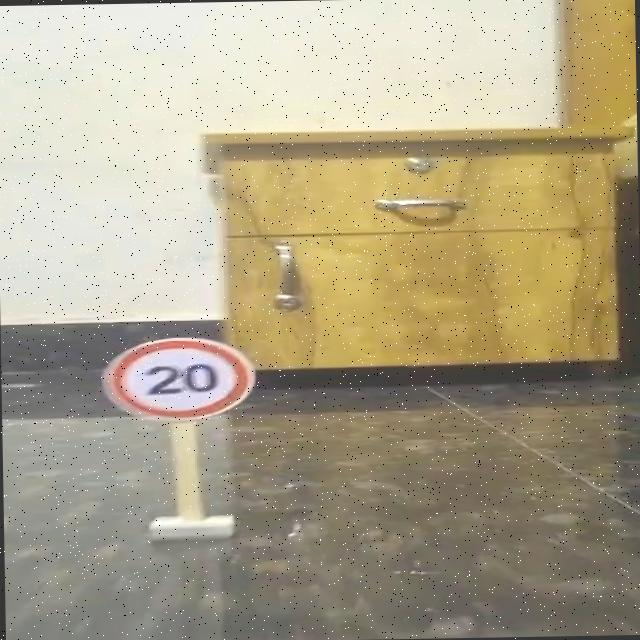Speed20: (90, 327, 270, 429)
